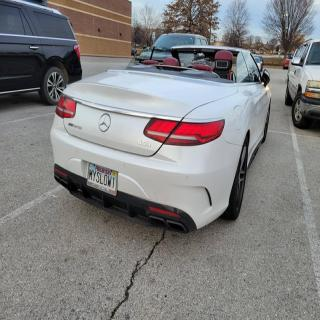license: (86, 163, 120, 198)
